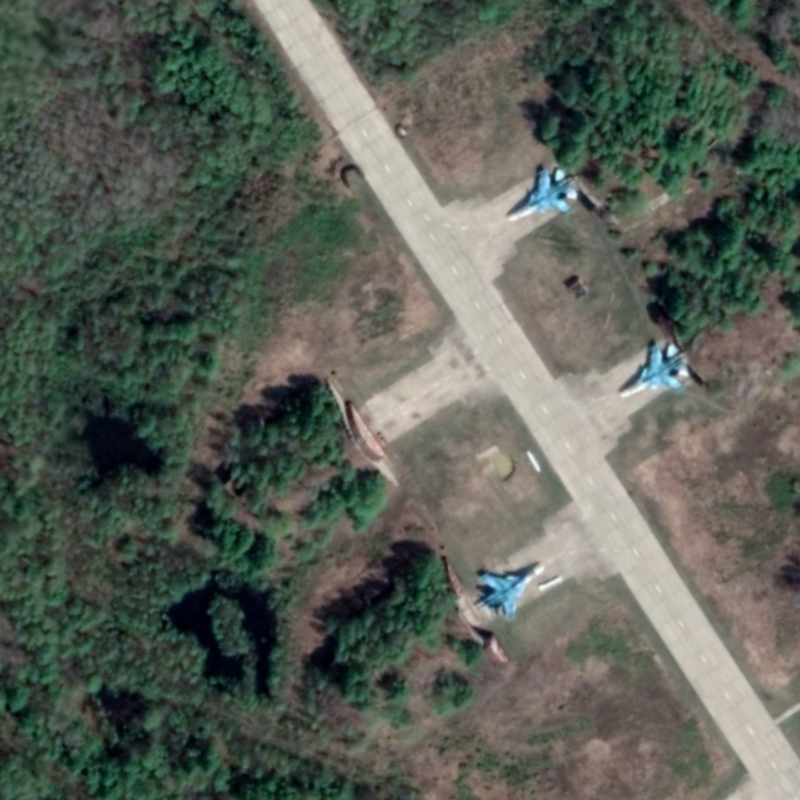A19: (474, 562, 547, 625), (617, 340, 691, 399), (505, 167, 579, 224)
